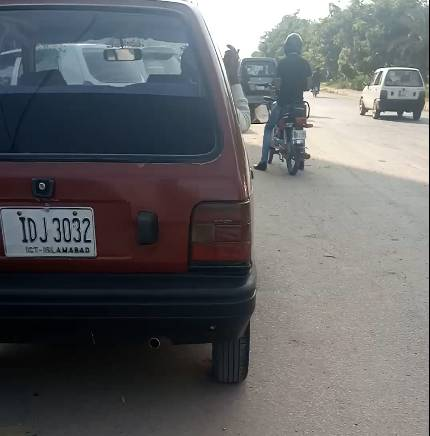number_plate: (1, 207, 96, 259)
